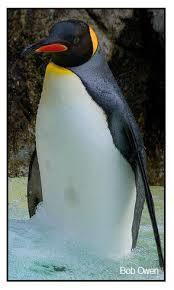king: (16, 18, 168, 277)
